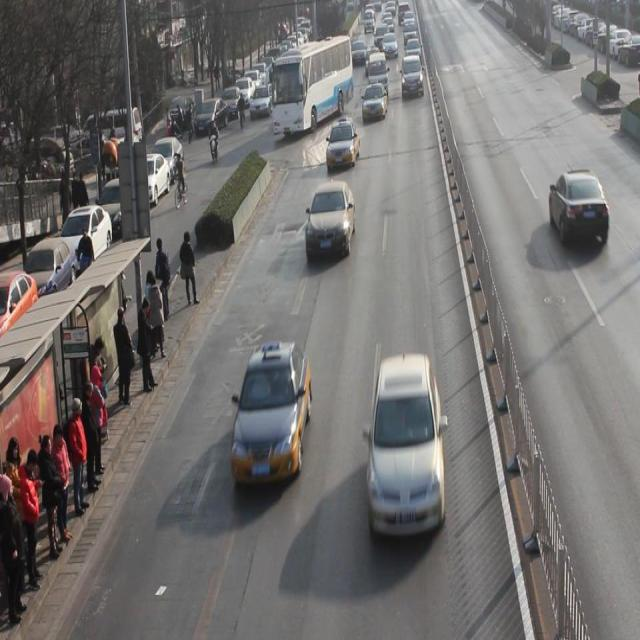car: (365, 352, 446, 538), (232, 341, 312, 482), (550, 169, 610, 249), (305, 180, 356, 258), (326, 121, 361, 169), (400, 54, 425, 99), (362, 82, 388, 122)
truck: (367, 50, 389, 97)
van: (271, 36, 354, 137)
